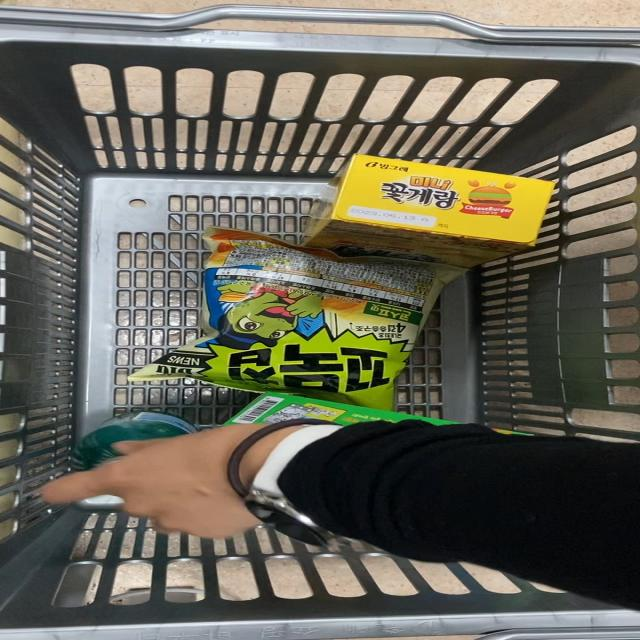ggobukchip: (161, 222, 452, 408)
goraebob: (224, 392, 553, 502)
jinro: (48, 411, 214, 487)
minicrab: (303, 168, 576, 260)
